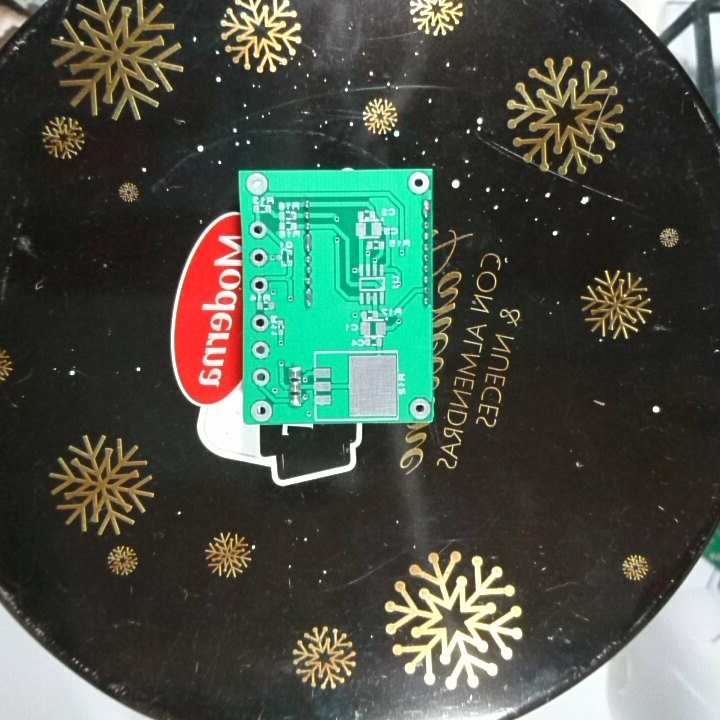F: (244, 171, 273, 198), (407, 395, 432, 421), (406, 170, 431, 195), (251, 398, 275, 423), (249, 338, 273, 360), (249, 366, 270, 388), (248, 312, 269, 333), (248, 275, 269, 295), (248, 220, 267, 241), (248, 248, 268, 266)
P: (419, 197, 431, 221), (302, 232, 314, 255), (302, 286, 314, 309)
